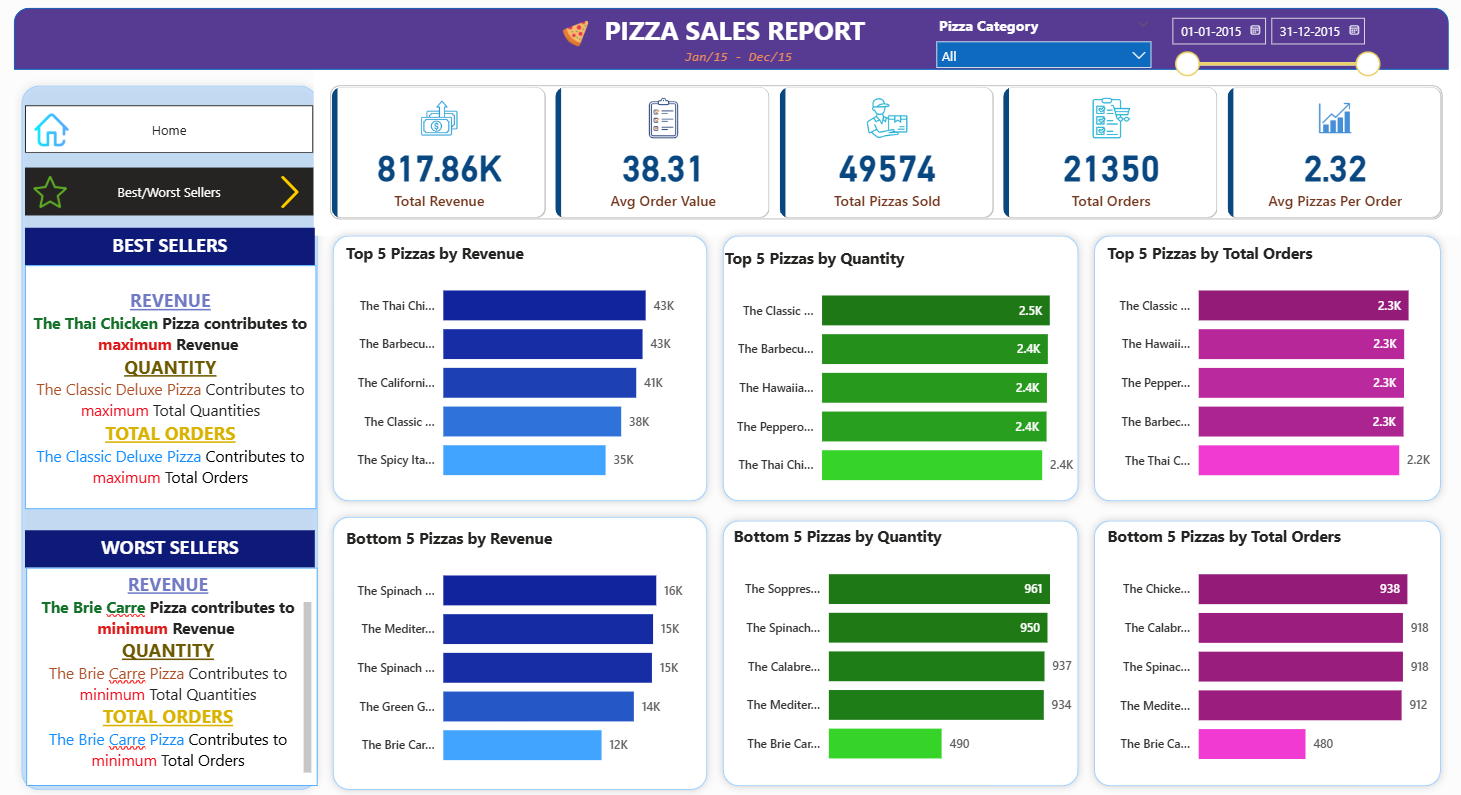

Layout of this report page (visuals, bound fields, positions):
{"tool":"powerbi","page":{"name":"Best/Worst Sellers","canvas":[1500,820],"ordinal":1},"visuals":[{"type":"shape","box":[14.2,80.8,320.2,739.5],"z":0},{"type":"cardVisual","fields":{"Data":["pizza_sales.Total Revenue","pizza_sales.Avg Order Value","pizza_sales.Total Pizzas Sold","pizza_sales.Total Orders","pizza_sales.Avg Pizzas Per Order"]},"box":[322.5,72.5,1177.5,171.2],"z":1000},{"type":"shape","box":[13.8,8.8,1473.8,63.8],"z":2000},{"type":"textbox","box":[607.5,8.8,295,55],"z":3000},{"type":"textbox","box":[698.8,45,145,27.5],"z":4000},{"type":"image","box":[565,22,53,27],"z":5000},{"type":"shape","box":[333.8,234.9,400.5,288.8],"z":6000},{"type":"textbox","box":[25.5,235.2,297.5,38.3],"z":7000},{"type":"textbox","box":[25.5,273.4,298.9,250.8],"z":8000},{"type":"textbox","box":[25.5,545.4,297.5,38.3],"z":9000},{"type":"textbox","box":[26.9,583.7,298.9,223.8],"z":10000},{"type":"slicer","fields":{"Values":["pizza_sales.pizza_category"]},"box":[950.6,11.3,240.8,60.9],"z":11000},{"type":"slicer","fields":{"Values":["pizza_sales.order_date"]},"box":[1191.2,9,234.9,71.9],"z":12000},{"type":"shape","box":[734.3,234.9,381.2,288.8],"z":13000},{"type":"shape","box":[1115.5,234.9,372.3,288.8],"z":14000},{"type":"shape","box":[333.8,523.7,400.5,296.5],"z":15000},{"type":"shape","box":[734.3,527.6,381.2,288.8],"z":16000},{"type":"shape","box":[1115.5,527.6,372.3,288.8],"z":17000},{"type":"barChart","title":"Top 5 Pizzas by Revenue","fields":{"Category":["pizza_sales.pizza_name"],"Y":["pizza_sales.Total Revenue"]},"box":[350.6,249.3,368.2,262.1],"z":18000},{"type":"barChart","title":"Bottom 5 Pizzas by Revenue","fields":{"Category":["pizza_sales.pizza_name"],"Y":["pizza_sales.Total Revenue"]},"box":[350.6,541.9,368.2,262.1],"z":19000},{"type":"barChart","title":"Top 5 Pizzas by Quantity","fields":{"Category":["pizza_sales.pizza_name"],"Y":["pizza_sales.Total Pizzas Sold"]},"box":[739.7,254.1,368.2,262.1],"z":20000},{"type":"barChart","title":"Bottom 5 Pizzas by Quantity","fields":{"Category":["pizza_sales.pizza_name"],"Y":["pizza_sales.Total Pizzas Sold"]},"box":[748.1,541,359.7,261.6],"z":21000},{"type":"barChart","title":"Top 5 Pizzas by Total Orders","fields":{"Category":["pizza_sales.pizza_name"],"Y":["pizza_sales.Total Orders"]},"box":[1131.6,249.5,344.9,262.2],"z":22000},{"type":"barChart","title":"Bottom 5 Pizzas by Total Orders","fields":{"Category":["pizza_sales.pizza_name"],"Y":["pizza_sales.Total Orders"]},"box":[1131.6,540.4,344.9,262.2],"z":23000},{"type":"pageNavigator","box":[25.5,109.1,296.1,49.6],"z":24000},{"type":"pageNavigator","box":[25.5,172.8,296.1,49.6],"z":25000},{"type":"image","box":[272,181.3,51,34],"z":26000},{"type":"image","box":[32.6,116.2,41.1,35.4],"z":27000},{"type":"image","box":[29.8,181.3,43.9,34],"z":28000}]}

Visuals, with their boxes in screenshot pixels (x1, y1, x2, y2), scaled from the page's 1500x820 canvas onto the 1461x795 screenshot:
shape: BBox(14, 78, 326, 794)
cardVisual - pizza_sales.Total Revenue x pizza_sales.Avg Order Value: BBox(314, 70, 1460, 236)
shape: BBox(13, 9, 1449, 70)
textbox: BBox(592, 9, 879, 62)
textbox: BBox(681, 44, 822, 70)
image: BBox(550, 21, 602, 48)
shape: BBox(325, 228, 715, 508)
textbox: BBox(25, 228, 315, 265)
textbox: BBox(25, 265, 316, 508)
textbox: BBox(25, 529, 315, 566)
textbox: BBox(26, 566, 317, 783)
slicer - pizza_sales.pizza_category: BBox(926, 11, 1160, 70)
slicer - pizza_sales.order_date: BBox(1160, 9, 1389, 78)
shape: BBox(715, 228, 1086, 508)
shape: BBox(1086, 228, 1449, 508)
shape: BBox(325, 508, 715, 794)
shape: BBox(715, 512, 1086, 792)
shape: BBox(1086, 512, 1449, 792)
"Top 5 Pizzas by Revenue" barChart: BBox(341, 242, 700, 496)
"Bottom 5 Pizzas by Revenue" barChart: BBox(341, 525, 700, 779)
"Top 5 Pizzas by Quantity" barChart: BBox(720, 246, 1079, 500)
"Bottom 5 Pizzas by Quantity" barChart: BBox(729, 525, 1079, 778)
"Top 5 Pizzas by Total Orders" barChart: BBox(1102, 242, 1438, 496)
"Bottom 5 Pizzas by Total Orders" barChart: BBox(1102, 524, 1438, 778)
pageNavigator: BBox(25, 106, 313, 154)
pageNavigator: BBox(25, 168, 313, 216)
image: BBox(265, 176, 315, 209)
image: BBox(32, 113, 72, 147)
image: BBox(29, 176, 72, 209)
